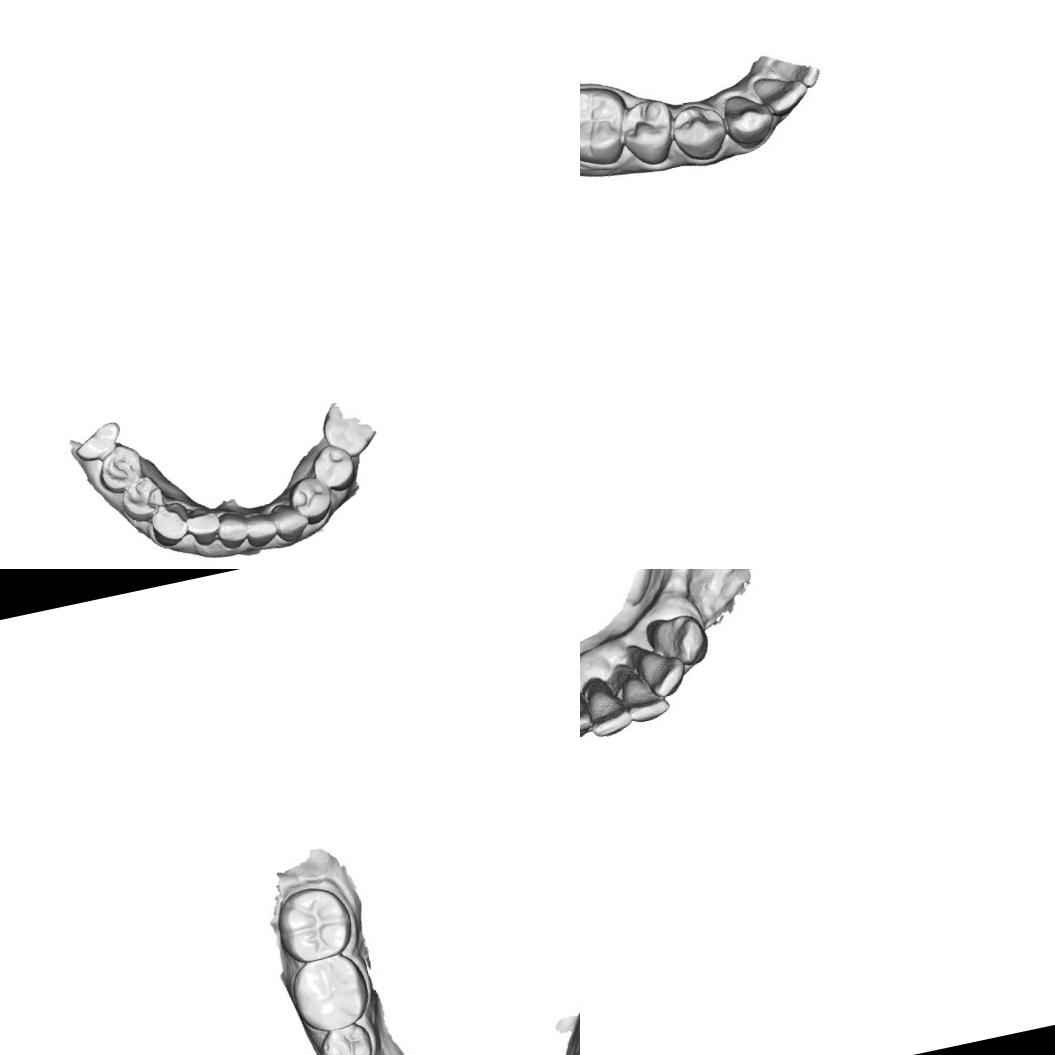canine: (642, 608, 712, 672), (718, 84, 780, 152), (146, 498, 194, 550), (271, 498, 312, 546)
incisor: (584, 678, 638, 743), (618, 662, 671, 728), (638, 639, 690, 701), (753, 68, 811, 122), (182, 504, 224, 550), (212, 508, 252, 552), (241, 508, 279, 550), (580, 672, 598, 744)
molar: (290, 947, 370, 1034), (272, 879, 352, 964), (580, 78, 635, 172)
premolar: (619, 97, 679, 169), (671, 100, 732, 164), (92, 442, 147, 498), (284, 472, 337, 528), (308, 440, 360, 495), (116, 472, 168, 526), (319, 1020, 376, 1055)
